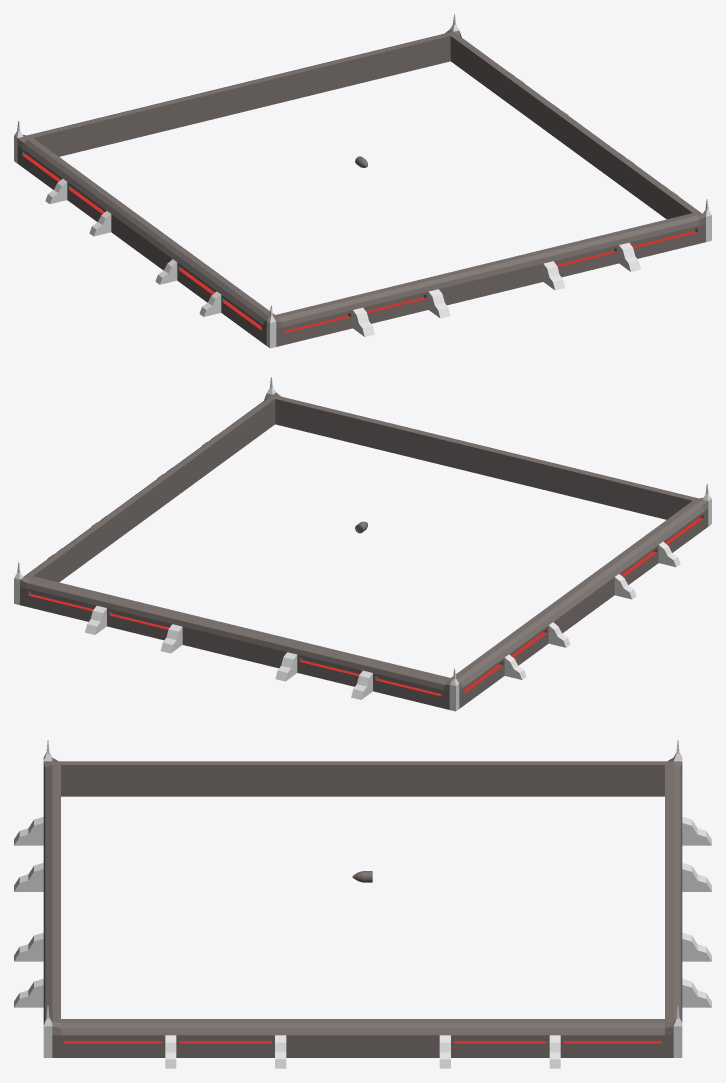
3 renders of one model, top to bottom at view 1: azimuth 30°, elevation 25°; view 2: azimuth 150°, elevation 25°; view 3: azimuth 270°, elevation 25°, orthographic. The views are drawn at different scales.
Parts seen in each view (by area): view 1: Border; view 2: Border; view 3: Border.
Part boxes in pixels (x1=…): Border: x1=14, y1=14, x2=711, y2=348; Border: x1=14, y1=377, x2=711, y2=711; Border: x1=14, y1=740, x2=711, y2=1068.
Bounding box in the file's own units: 1155 × 96.73 × 1174.
